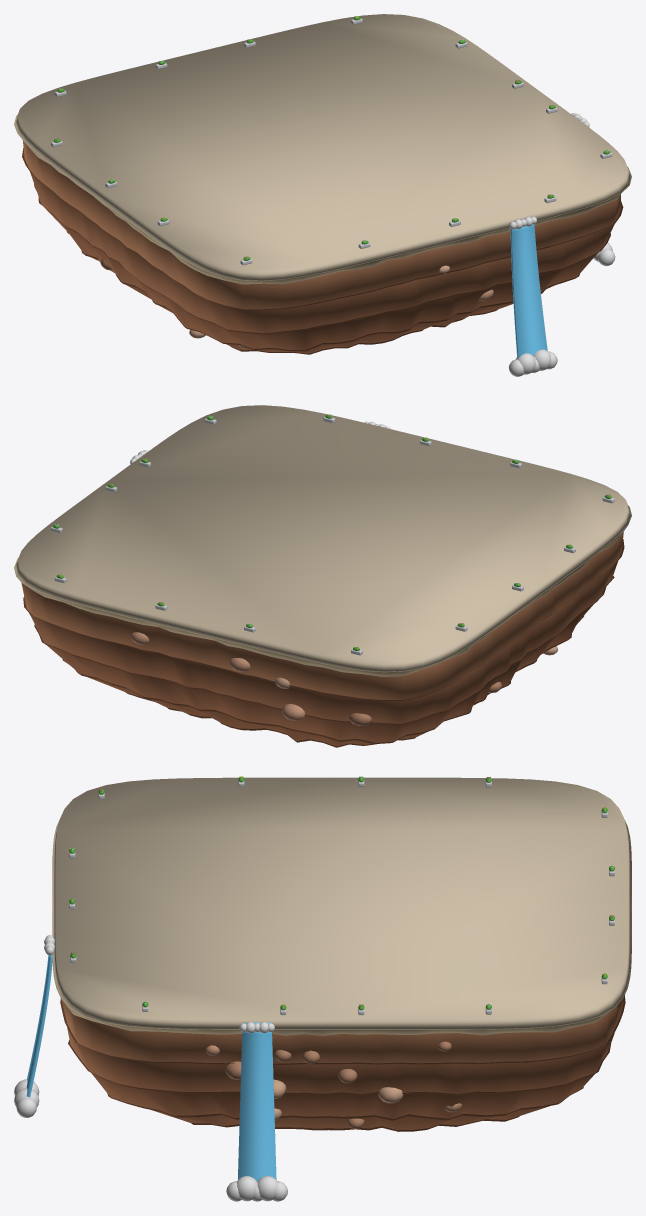
File: island.glb
3 renders of one model, top to bottom at view 1: azimuth 30°, elevation 25°; view 2: azimuth 150°, elevation 25°; view 3: azimuth 270°, elevation 25°, orthographic. The views are drawn at different scales.
Visible parts, largest first — view 1: top; view 2: top; view 3: top.
Boxes of the visible parts, x1,y1,x2,y2 form: top: [14, 14, 631, 376]; top: [14, 405, 631, 747]; top: [14, 776, 631, 1201].
Bounding box in the file's own units: 10.19 × 3.72 × 10.19.
